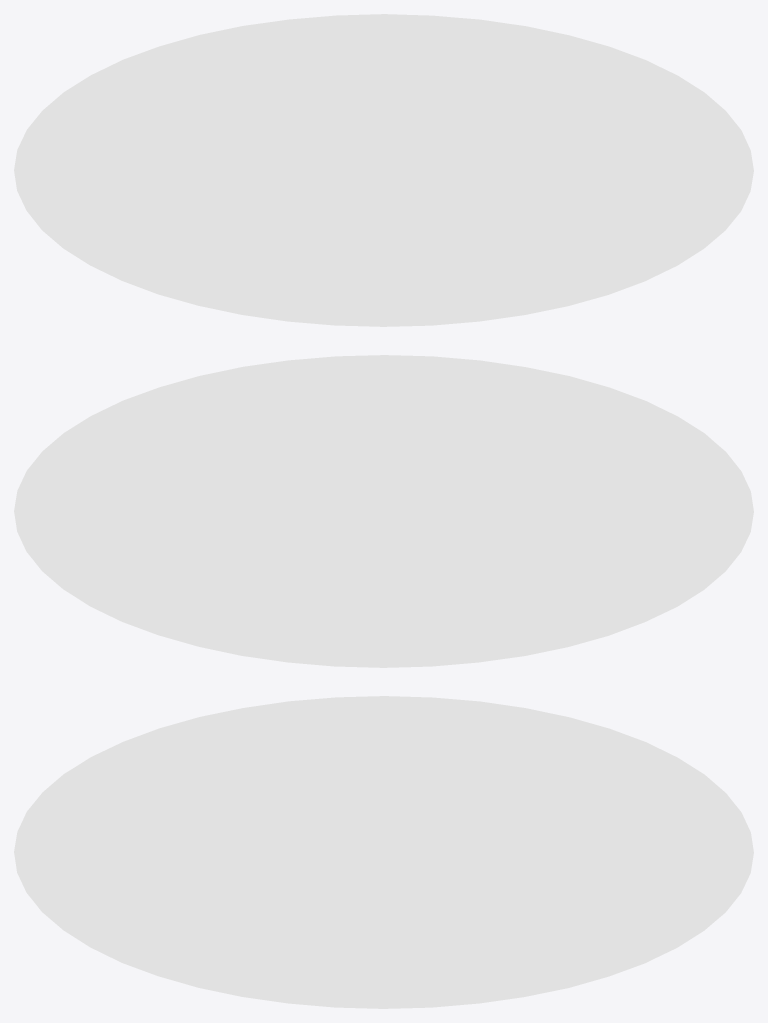
Rendered from original-4.obj.
The picture shows the model from 3 angles, top to bottom: view 1: azimuth 30°, elevation 25°; view 2: azimuth 150°, elevation 25°; view 3: azimuth 270°, elevation 25°; orthographic projection.
Visible parts, largest first — view 1: #ID256; view 2: #ID256; view 3: #ID256.
Part boxes in pixels (<box>): #ID256: <box>14,14,753,326</box>; #ID256: <box>14,355,753,667</box>; #ID256: <box>14,696,753,1008</box>.
Bounding box in the file's own units: 0.5582 × 0.000197 × 0.5582.
